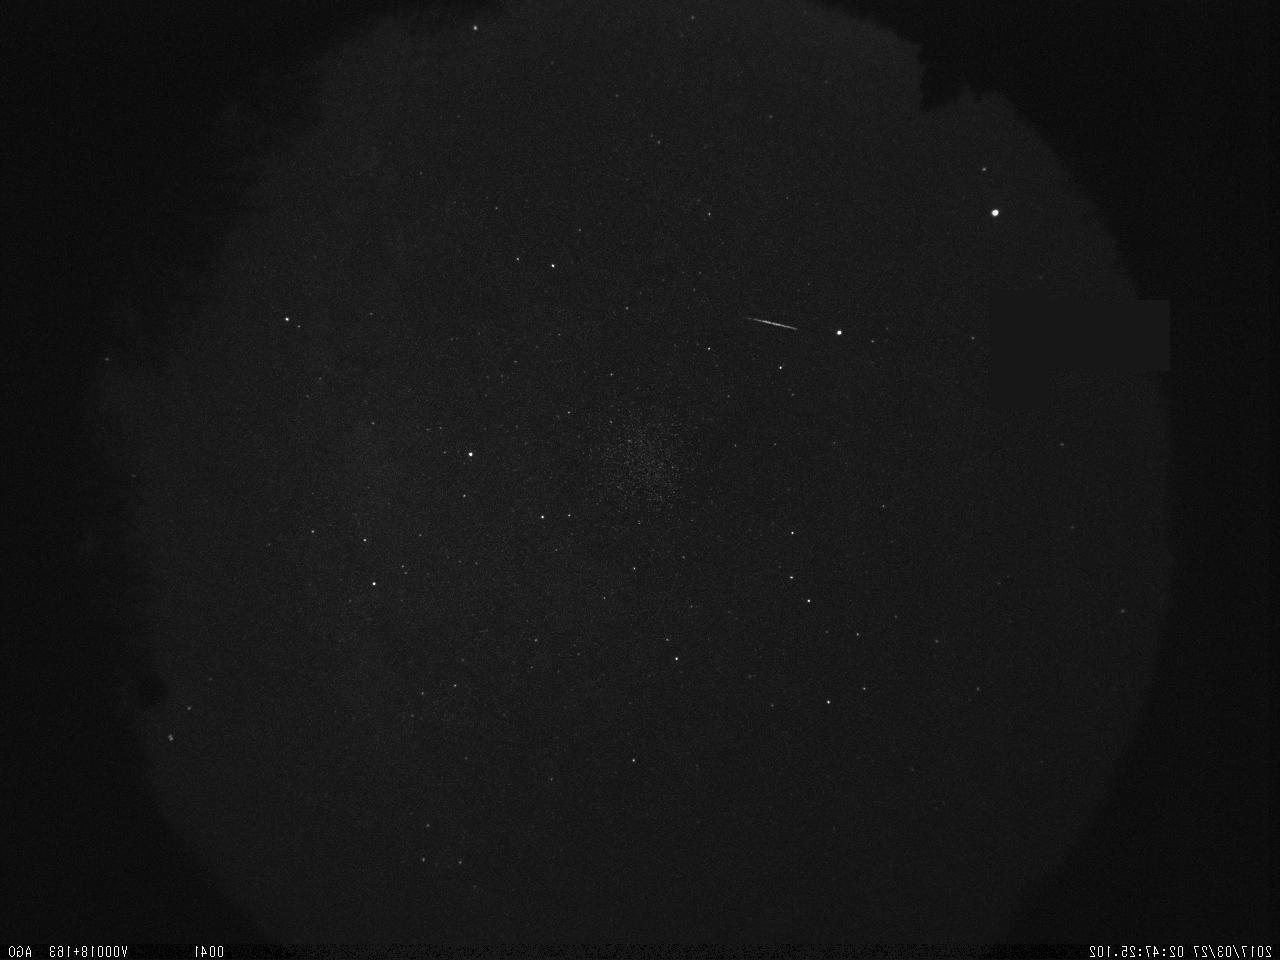meteor: (713, 303, 810, 349)
